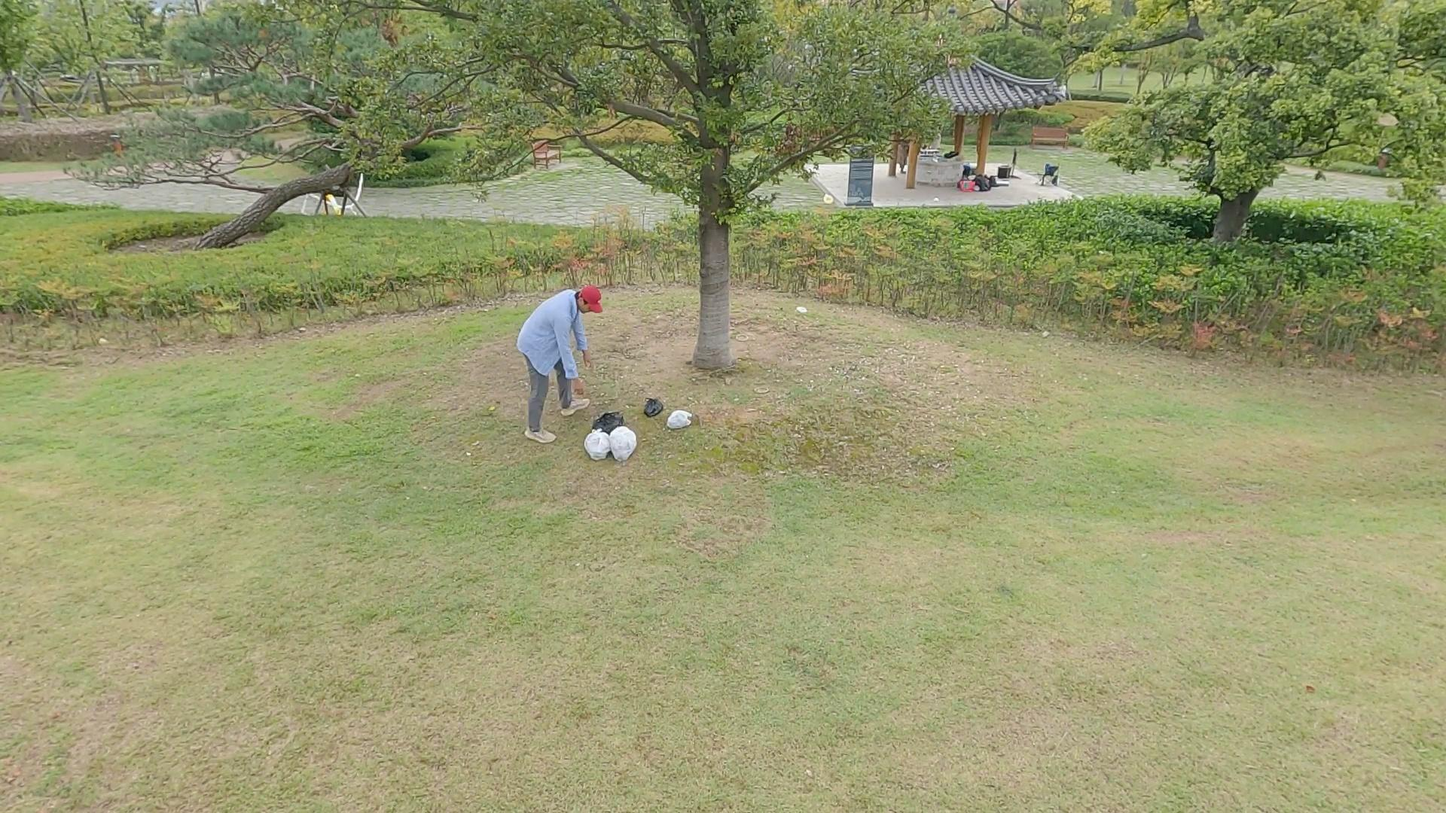person: (518, 281, 609, 447)
trash: (593, 408, 626, 443), (607, 425, 639, 461), (664, 408, 700, 436), (585, 426, 609, 460), (643, 396, 662, 419), (796, 299, 812, 319)
